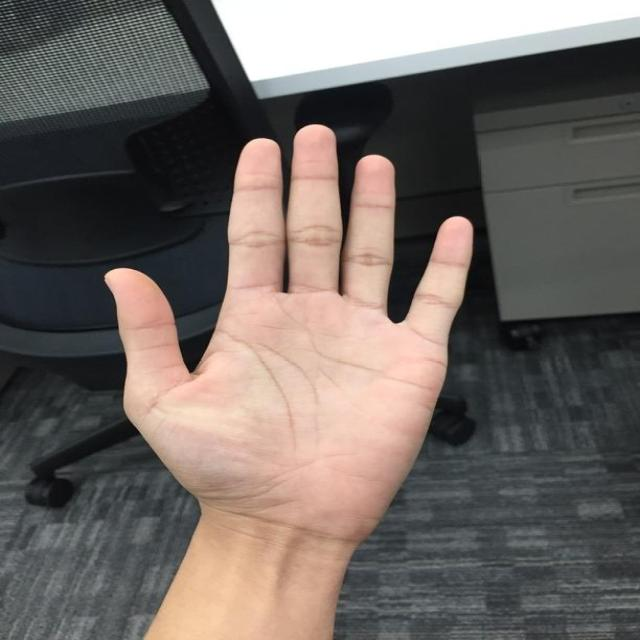hand: (104, 122, 475, 558)
